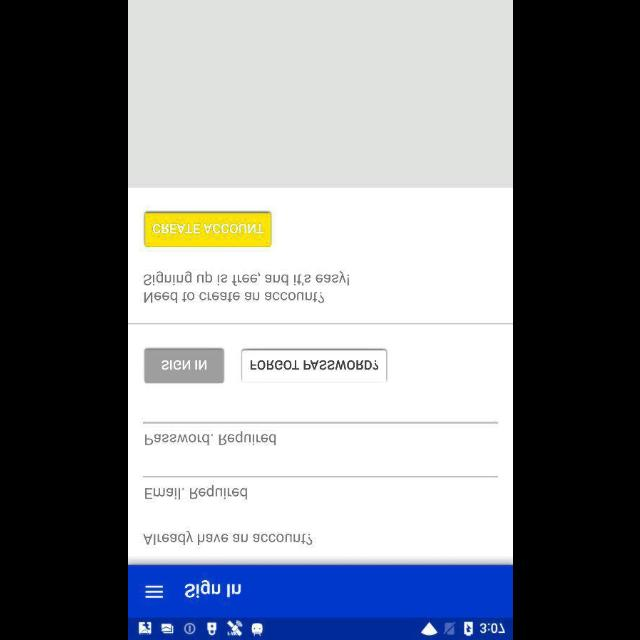icon: (144, 584, 164, 598)
input: (142, 475, 498, 499), (142, 421, 498, 445)
text: (143, 271, 349, 303), (144, 530, 312, 544), (144, 431, 276, 445), (145, 485, 247, 499), (184, 578, 242, 598)
textbutton: (241, 349, 387, 383), (144, 212, 270, 248), (144, 348, 224, 382)
toolbar: (128, 564, 512, 616)
uppertaskbar: (128, 617, 512, 639)
